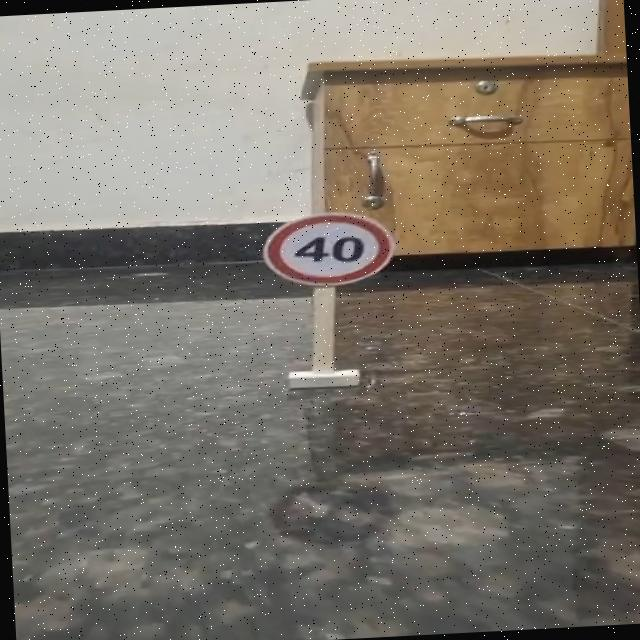Speed40: (254, 208, 404, 294)
